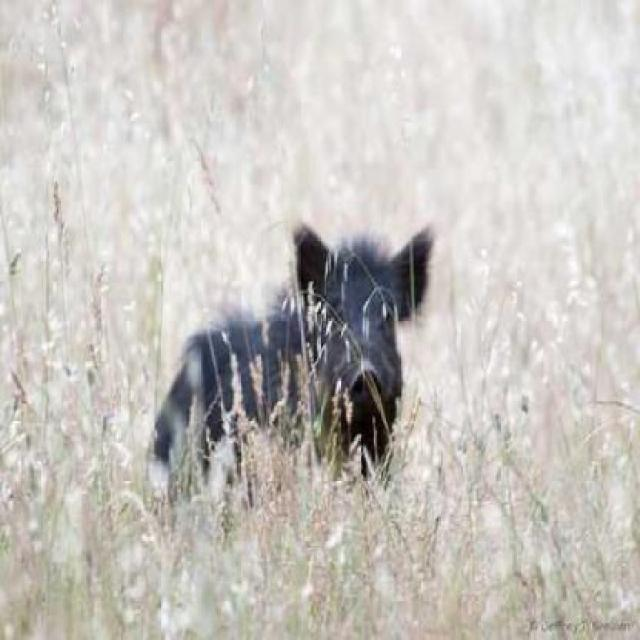Boar: (109, 215, 445, 528)
